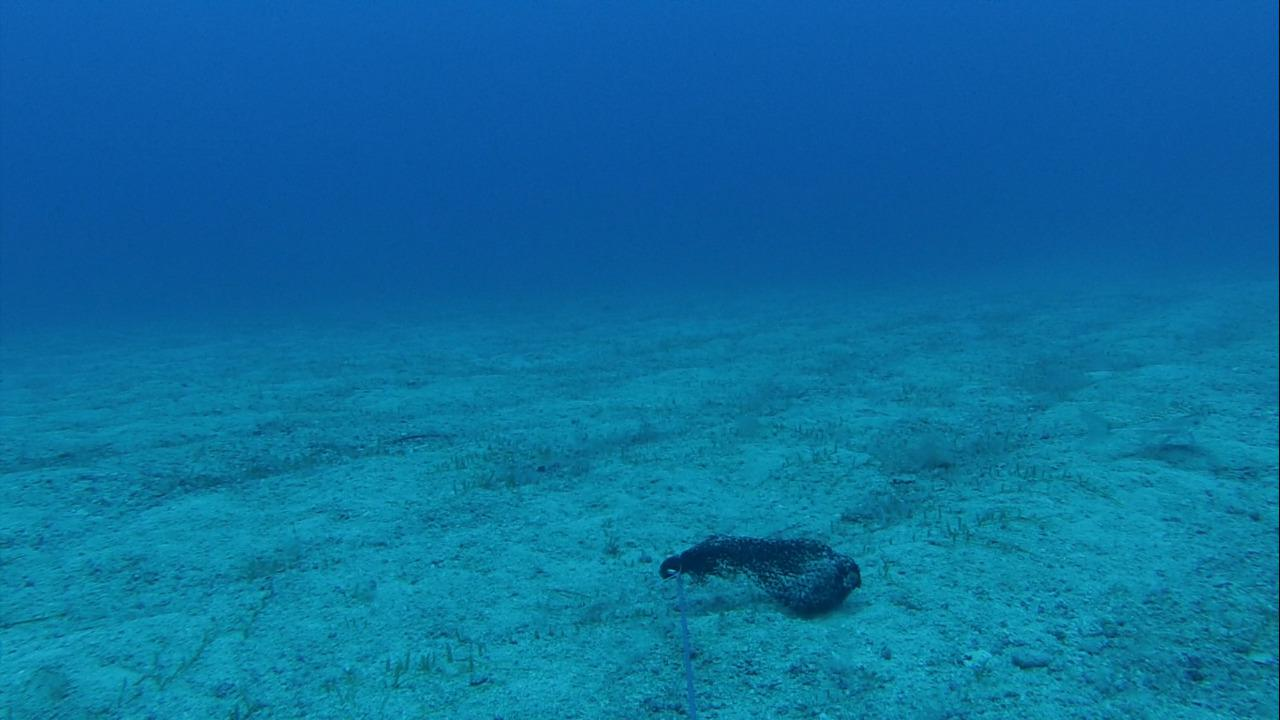dactylopterus: (1108, 385, 1236, 478)
